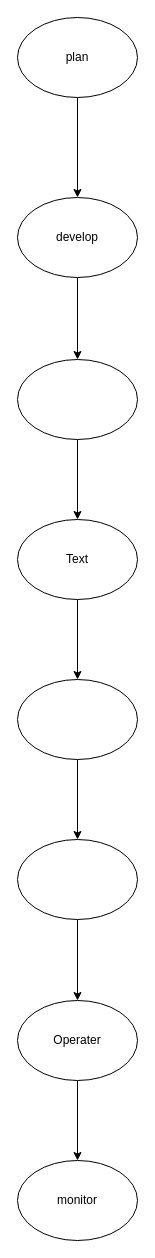
The diagram is 155 pixels wide and 1258 high, and some of its shapes have lost their labels. Here are the shapes that lost their labels. From the top down, the centre of each, then its label:
pixel 77 399: Build
pixel 77 719: Release
pixel 77 879: Deploy
